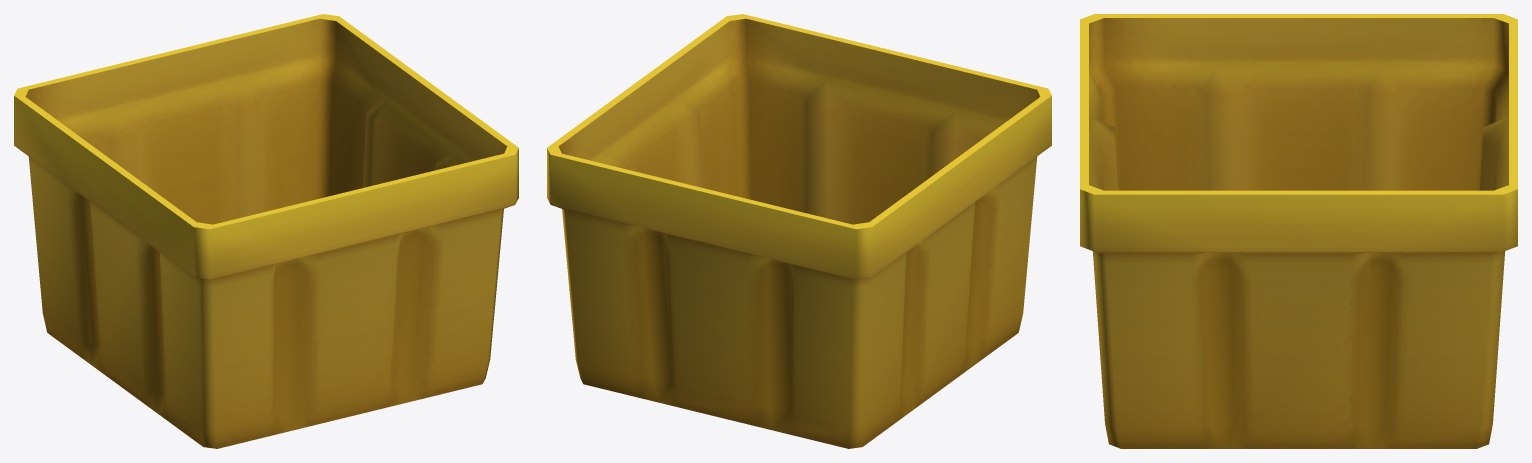
The model's file is Berrry_Box_03.fbx.
The picture shows the model from 3 angles, left to right: view 1: azimuth 30°, elevation 25°; view 2: azimuth 150°, elevation 25°; view 3: azimuth 270°, elevation 25°; orthographic projection. The views are drawn at different scales.
Parts seen in each view (by area): view 1: Berrry_Box_03_Clone_; view 2: Berrry_Box_03_Clone_; view 3: Berrry_Box_03_Clone_.
Boxes of the visible parts, box(x1,y1,x2,y2) form: Berrry_Box_03_Clone_: box(14, 14, 518, 448); Berrry_Box_03_Clone_: box(547, 14, 1051, 448); Berrry_Box_03_Clone_: box(1080, 14, 1517, 448).
Size of the model in its own units: 300 by 206 by 307.
1 material, 1 textured.
